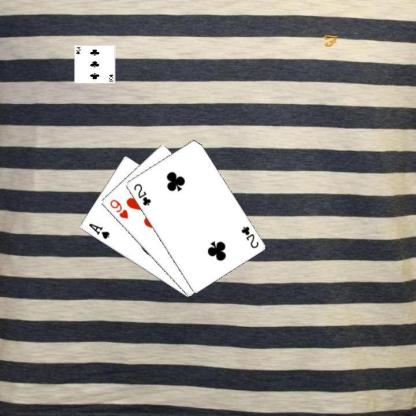2C: (131, 181, 152, 207), (238, 224, 259, 250)
9H: (107, 197, 129, 220)
AS: (86, 221, 110, 240)
